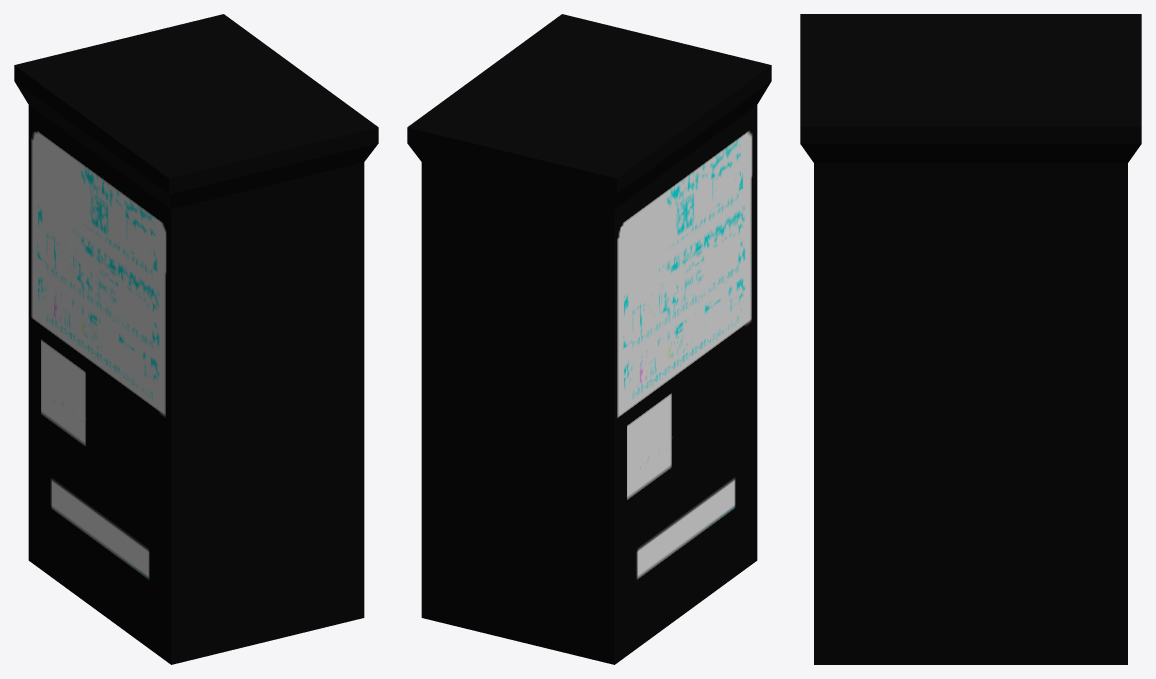
The model's file is refrigator.FBX.
3 views of the same model, side by side, from view 1: azimuth 30°, elevation 25°; view 2: azimuth 150°, elevation 25°; view 3: azimuth 270°, elevation 25° (orthographic). The views are drawn at different scales.
Visible parts, largest first — view 1: Box001; view 2: Box001; view 3: Box001.
Part boxes in pixels (x1,y1,x2,y2): Box001: (14,14,378,664); Box001: (407,14,771,664); Box001: (800,14,1141,664).
Bounding box in the file's own units: 27.18 × 61.07 × 34.79.
